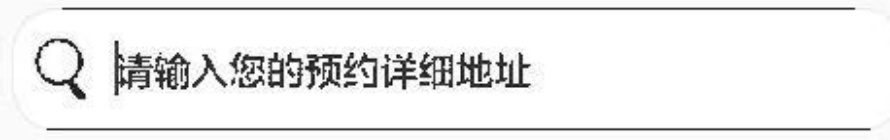EditText: (1, 1, 889, 139)
